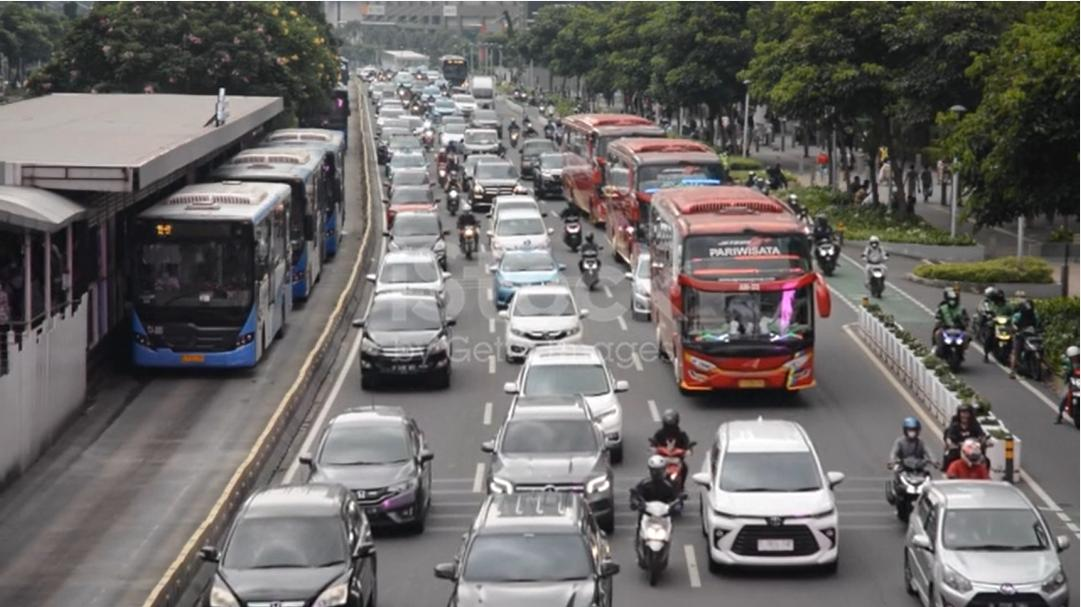bus: (635, 185, 841, 422), (117, 171, 305, 392), (236, 141, 352, 309), (597, 130, 725, 268), (549, 108, 633, 225), (309, 126, 350, 271)
car: (691, 409, 856, 578), (887, 469, 1081, 607), (203, 460, 376, 607), (433, 483, 614, 607), (303, 391, 424, 536), (469, 405, 616, 515), (351, 287, 458, 396), (505, 343, 628, 434), (497, 287, 586, 364), (489, 247, 561, 320), (371, 251, 450, 310), (384, 210, 452, 265), (488, 206, 554, 260), (468, 159, 524, 216), (388, 185, 441, 217), (463, 121, 501, 165), (387, 169, 427, 189)
motorcycle: (633, 471, 677, 591), (879, 431, 941, 510), (940, 421, 1009, 491), (931, 295, 969, 382), (858, 238, 898, 316), (1013, 311, 1055, 381), (984, 304, 1021, 369), (815, 211, 846, 284), (651, 429, 681, 491), (455, 206, 482, 268), (577, 239, 604, 296), (557, 207, 585, 256), (446, 181, 463, 219)
